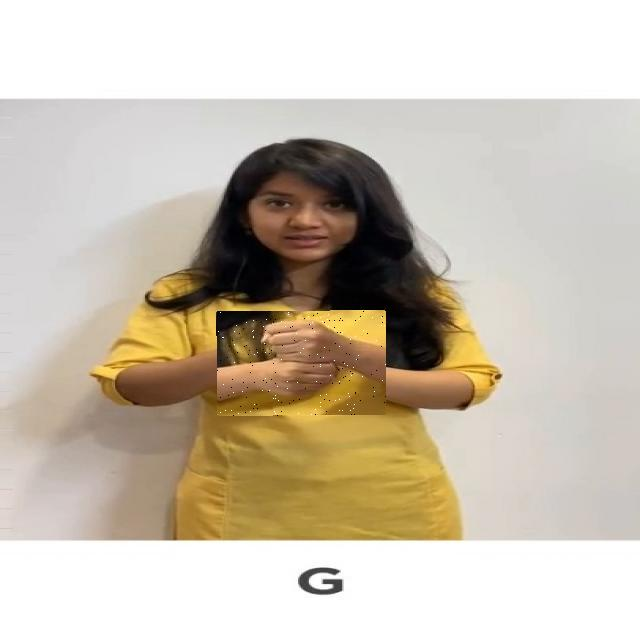G: (217, 310, 386, 416)
